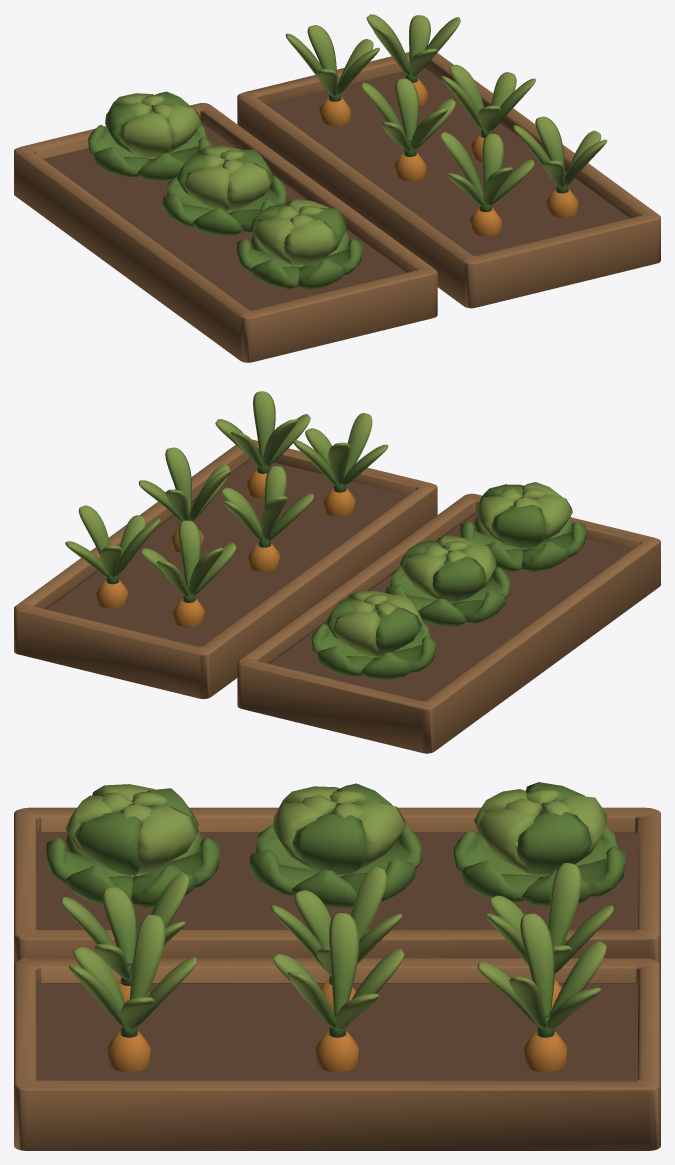
File: PRD_Vegetable_Garden_A.fbx
3 renders of one model, top to bottom at view 1: azimuth 30°, elevation 25°; view 2: azimuth 150°, elevation 25°; view 3: azimuth 270°, elevation 25°, orthographic. The views are drawn at different scales.
Parts seen in each view (by area): view 1: PRD_Vegetable_Garden_A_Body_LOD0, PRD_Vegetable_Garden_A_CabbageBed_LOD0, PRD_Vegetable_Garden_A_CarrotRowInner_LOD0, PRD_Vegetable_Garden_A_CarrotRowOuter_LOD0; view 2: PRD_Vegetable_Garden_A_Body_LOD0, PRD_Vegetable_Garden_A_CabbageBed_LOD0, PRD_Vegetable_Garden_A_CarrotRowInner_LOD0, PRD_Vegetable_Garden_A_CarrotRowOuter_LOD0; view 3: PRD_Vegetable_Garden_A_Body_LOD0, PRD_Vegetable_Garden_A_CabbageBed_LOD0, PRD_Vegetable_Garden_A_CarrotRowOuter_LOD0, PRD_Vegetable_Garden_A_CarrotRowInner_LOD0.
Boxes of the visible parts, x1=… form: PRD_Vegetable_Garden_A_Body_LOD0: x1=14, y1=52, x2=660, y2=362; PRD_Vegetable_Garden_A_CabbageBed_LOD0: x1=88, y1=91, x2=362, y2=289; PRD_Vegetable_Garden_A_CarrotRowInner_LOD0: x1=285, y1=25, x2=534, y2=206; PRD_Vegetable_Garden_A_CarrotRowOuter_LOD0: x1=366, y1=14, x2=607, y2=188; PRD_Vegetable_Garden_A_Body_LOD0: x1=14, y1=439, x2=660, y2=753; PRD_Vegetable_Garden_A_CabbageBed_LOD0: x1=311, y1=482, x2=585, y2=680; PRD_Vegetable_Garden_A_CarrotRowInner_LOD0: x1=141, y1=413, x2=388, y2=596; PRD_Vegetable_Garden_A_CarrotRowOuter_LOD0: x1=65, y1=391, x2=310, y2=578; PRD_Vegetable_Garden_A_Body_LOD0: x1=14, y1=807, x2=660, y2=1150; PRD_Vegetable_Garden_A_CabbageBed_LOD0: x1=46, y1=782, x2=625, y2=908; PRD_Vegetable_Garden_A_CarrotRowOuter_LOD0: x1=68, y1=913, x2=606, y2=1031; PRD_Vegetable_Garden_A_CarrotRowInner_LOD0: x1=61, y1=863, x2=613, y2=979.
Size of what is drawn, in the model's own units: 3.34 by 0.9328 by 3.23.
